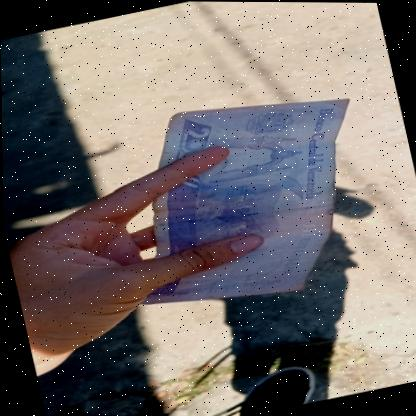vef_back: (102, 76, 388, 324)
